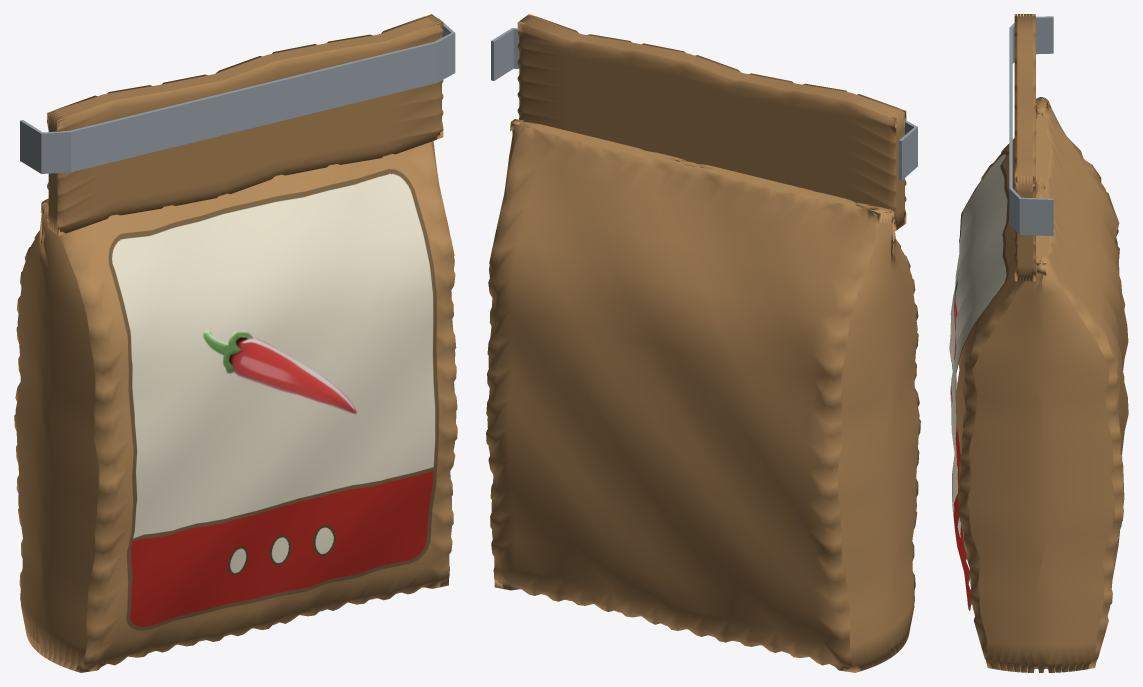
File: chili_seed.glb
3 renders of one model, left to right at view 1: azimuth 30°, elevation 25°; view 2: azimuth 150°, elevation 25°; view 3: azimuth 270°, elevation 25°, orthographic. The views are drawn at different scales.
Parts seen in each view (by area): view 1: ChiliSeed_Label, ChiliSeed_Body, ChiliSeed_Fold, ChiliSeed_Tie; view 2: ChiliSeed_Body, ChiliSeed_Fold, ChiliSeed_Tie; view 3: ChiliSeed_Body, ChiliSeed_Label, ChiliSeed_Fold, ChiliSeed_Tie.
Boxes of the visible parts, bbox=[...] form: ChiliSeed_Label: bbox=[108, 169, 438, 630]; ChiliSeed_Body: bbox=[14, 141, 457, 672]; ChiliSeed_Fold: bbox=[47, 14, 443, 235]; ChiliSeed_Tie: bbox=[20, 18, 455, 173]; ChiliSeed_Body: bbox=[486, 119, 920, 672]; ChiliSeed_Fold: bbox=[517, 14, 906, 231]; ChiliSeed_Tie: bbox=[491, 28, 917, 180]; ChiliSeed_Body: bbox=[956, 97, 1128, 672]; ChiliSeed_Label: bbox=[949, 150, 1009, 610]; ChiliSeed_Fold: bbox=[1014, 14, 1035, 281]; ChiliSeed_Tie: bbox=[1009, 16, 1053, 235].
Size of the model in its own units: 0.0917 by 0.1152 by 0.0378.
4 materials, 1 textured.
